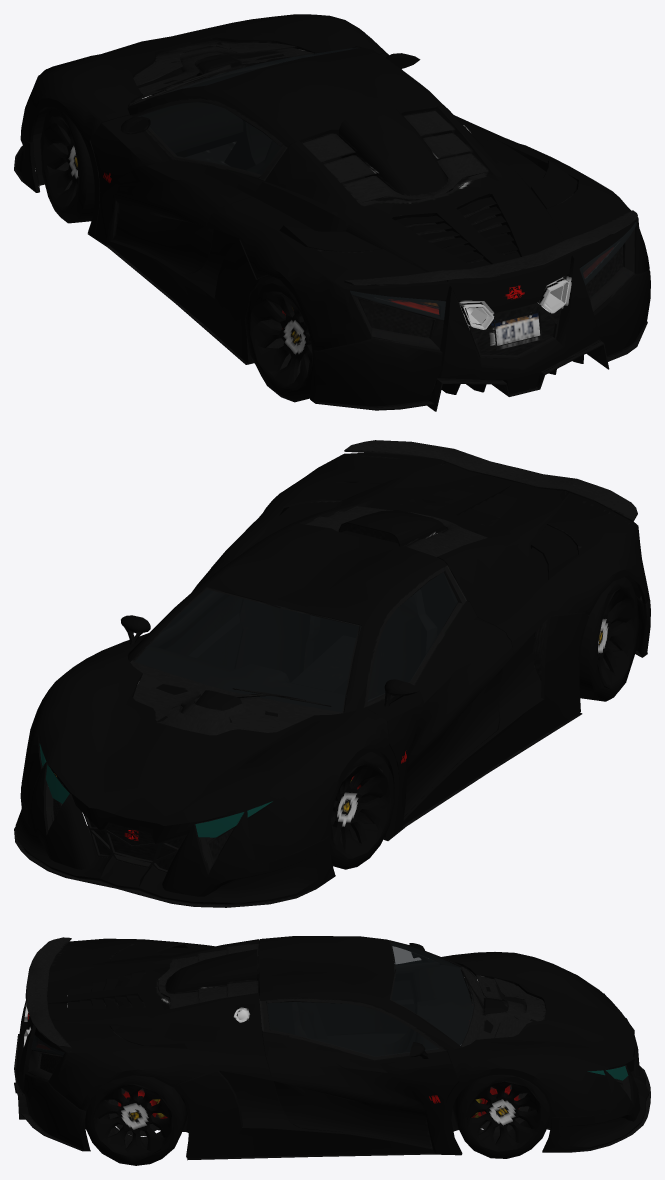
The model's file is goblin_supercar.glb.
The picture shows the model from 3 angles, top to bottom: view 1: azimuth 30°, elevation 25°; view 2: azimuth 150°, elevation 25°; view 3: azimuth 270°, elevation 25°; orthographic projection. The views are drawn at different scales.
Parts seen in each view (by area): view 1: Body, Glass, WheelRL, WheelFL, Interior; view 2: Body, Glass, Interior, WheelFL, WheelRL, LightsFront; view 3: Body, Glass, WheelRR, WheelFR, Interior, LightsFront.
Boxes of the visible parts, <box> form: Body: <box>14,14,650,411</box>; Glass: <box>139,47,636,319</box>; WheelRL: <box>244,277,313,402</box>; WheelFL: <box>40,107,94,223</box>; Interior: <box>141,116,635,314</box>; Body: <box>14,440,650,907</box>; Glass: <box>135,572,457,712</box>; Interior: <box>145,591,457,682</box>; WheelFL: <box>329,752,394,869</box>; WheelRL: <box>579,577,639,701</box>; LightsFront: <box>39,743,273,837</box>; Body: <box>14,936,650,1160</box>; Glass: <box>31,941,473,1056</box>; WheelRR: <box>85,1075,187,1165</box>; WheelFR: <box>452,1074,550,1158</box>; Interior: <box>32,963,439,1054</box>; LightsFront: <box>587,1066,631,1100</box>.
Bounding box in the file's own units: 7.61 × 3.95 × 15.5.
5 materials, 4 textured.
